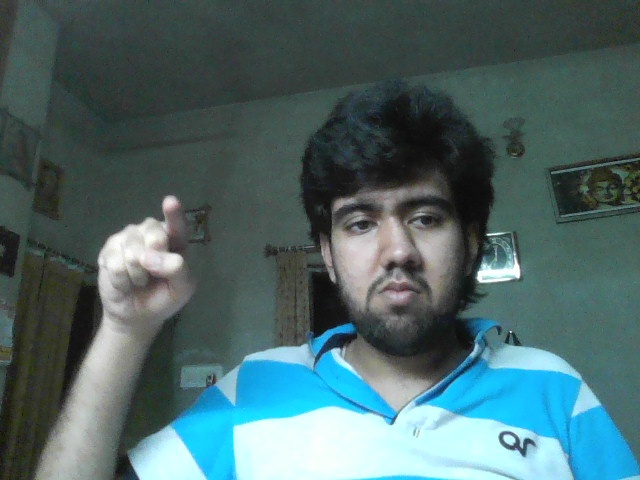You: (96, 196, 198, 324)
